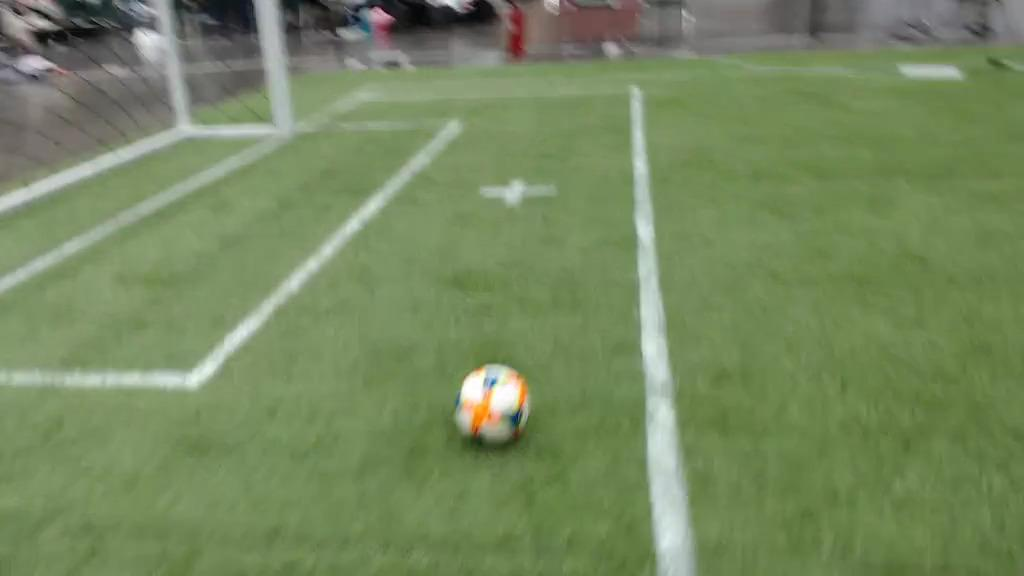ball: (454, 363, 531, 443)
